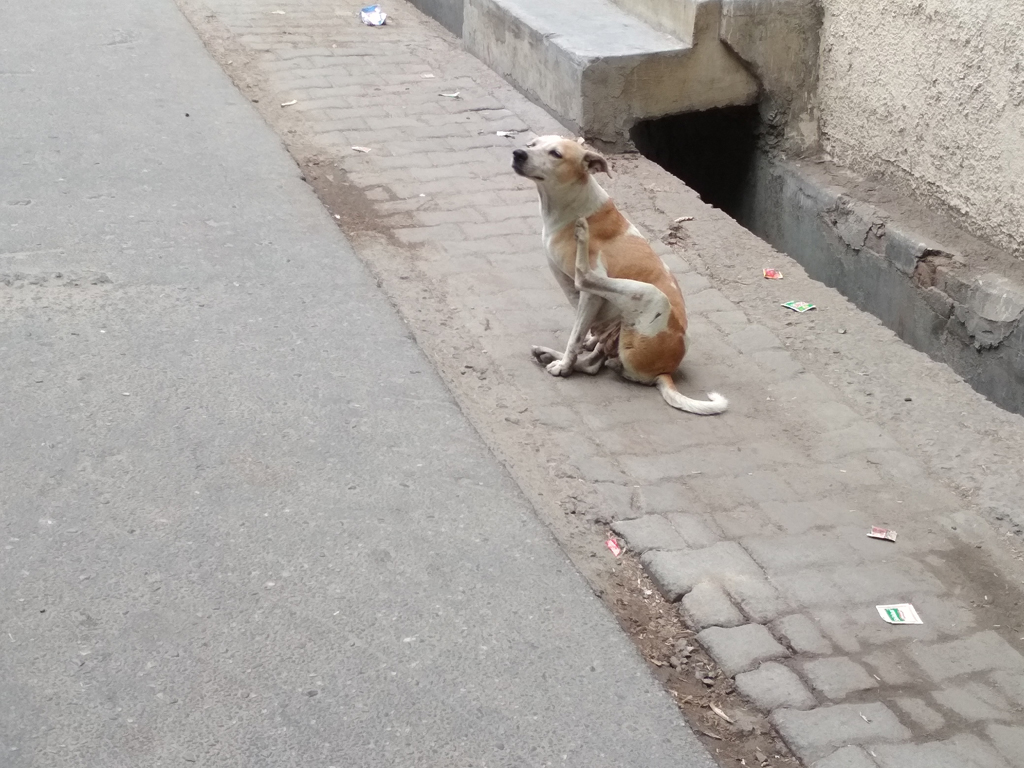dog: (511, 134, 728, 415)
